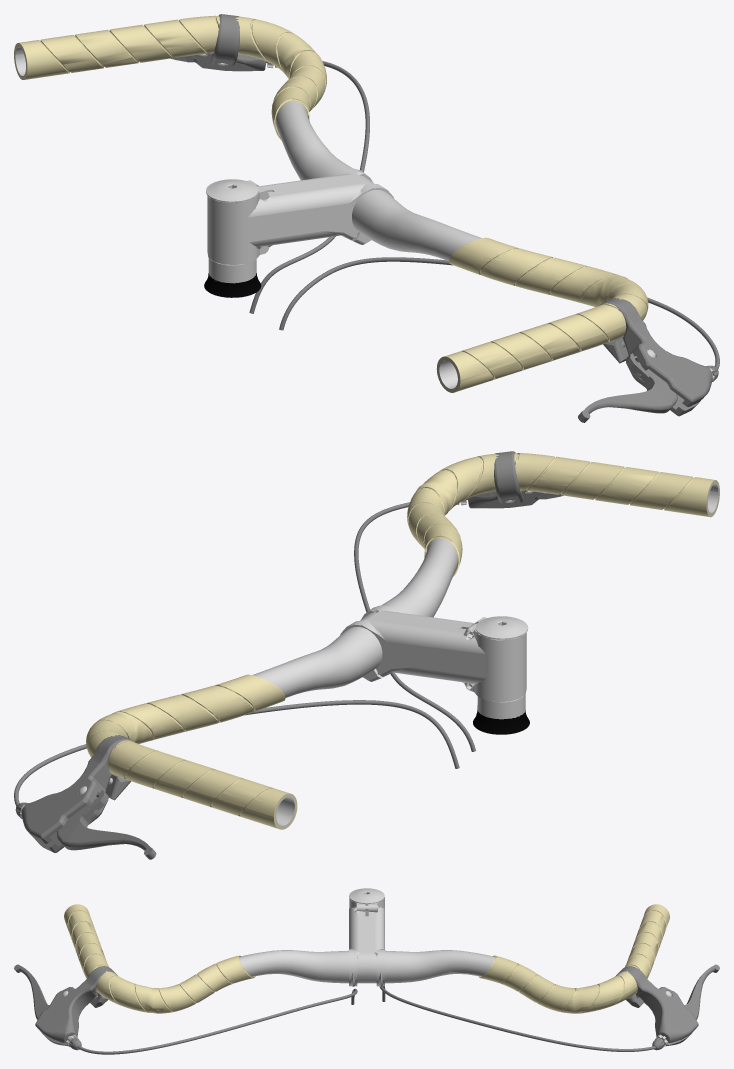
Rendered from Mango_Handle_Jeb.glb.
3 renders of one model, top to bottom at view 1: azimuth 30°, elevation 25°; view 2: azimuth 150°, elevation 25°; view 3: azimuth 270°, elevation 25°, orthographic. The views are drawn at different scales.
Parts seen in each view (by area): view 1: no_transformations (×6); view 2: no_transformations (×6); view 3: no_transformations (×5).
Boxes of the visible parts, box(x1,y1,x2,y2) form: no_transformations (×6): box(14, 14, 719, 422); no_transformations (×6): box(14, 451, 719, 859); no_transformations (×5): box(14, 888, 719, 1054).
Size of the model in its own units: 246 by 107 by 690.
